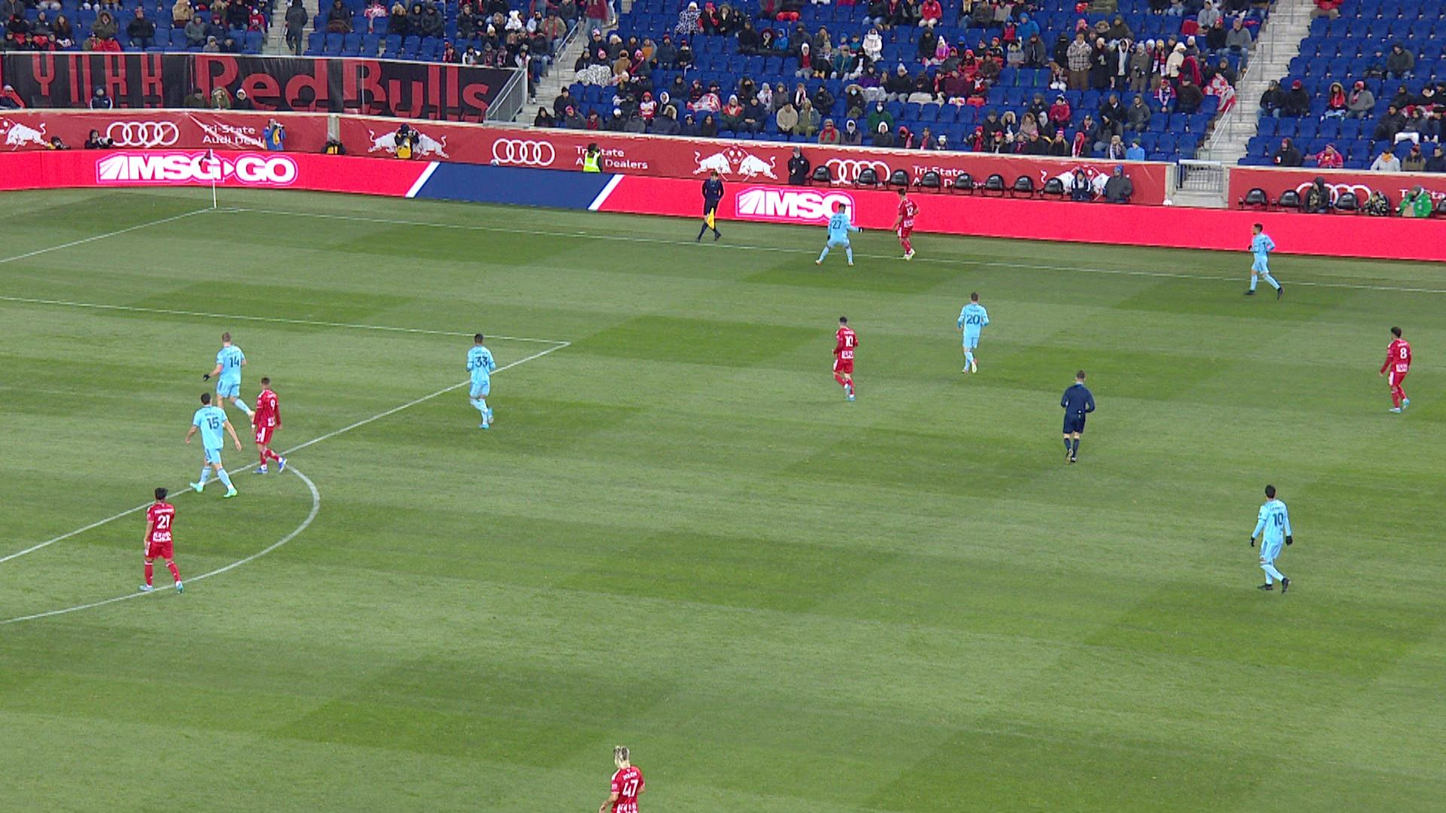Player: (186, 392, 242, 497), (203, 333, 256, 424), (139, 488, 184, 594), (1251, 485, 1292, 593), (251, 377, 288, 474), (598, 747, 645, 813), (815, 204, 864, 266), (1244, 224, 1283, 300), (466, 334, 496, 428), (1379, 327, 1411, 413), (958, 293, 989, 374), (832, 318, 858, 401), (892, 189, 919, 261), (222, 422, 226, 428)
referee: (1061, 370, 1095, 462), (697, 170, 724, 242)
